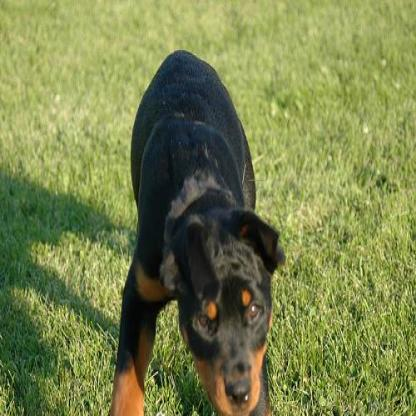Rottweiler: (106, 47, 284, 414)
